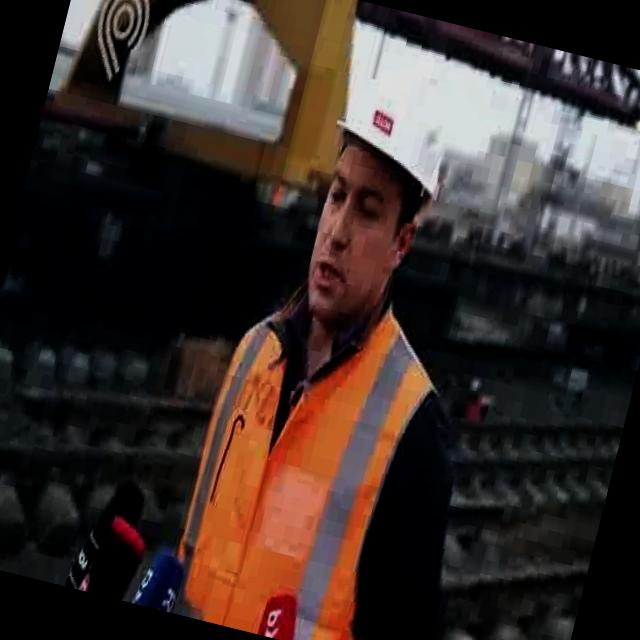vest: (158, 261, 469, 640)
